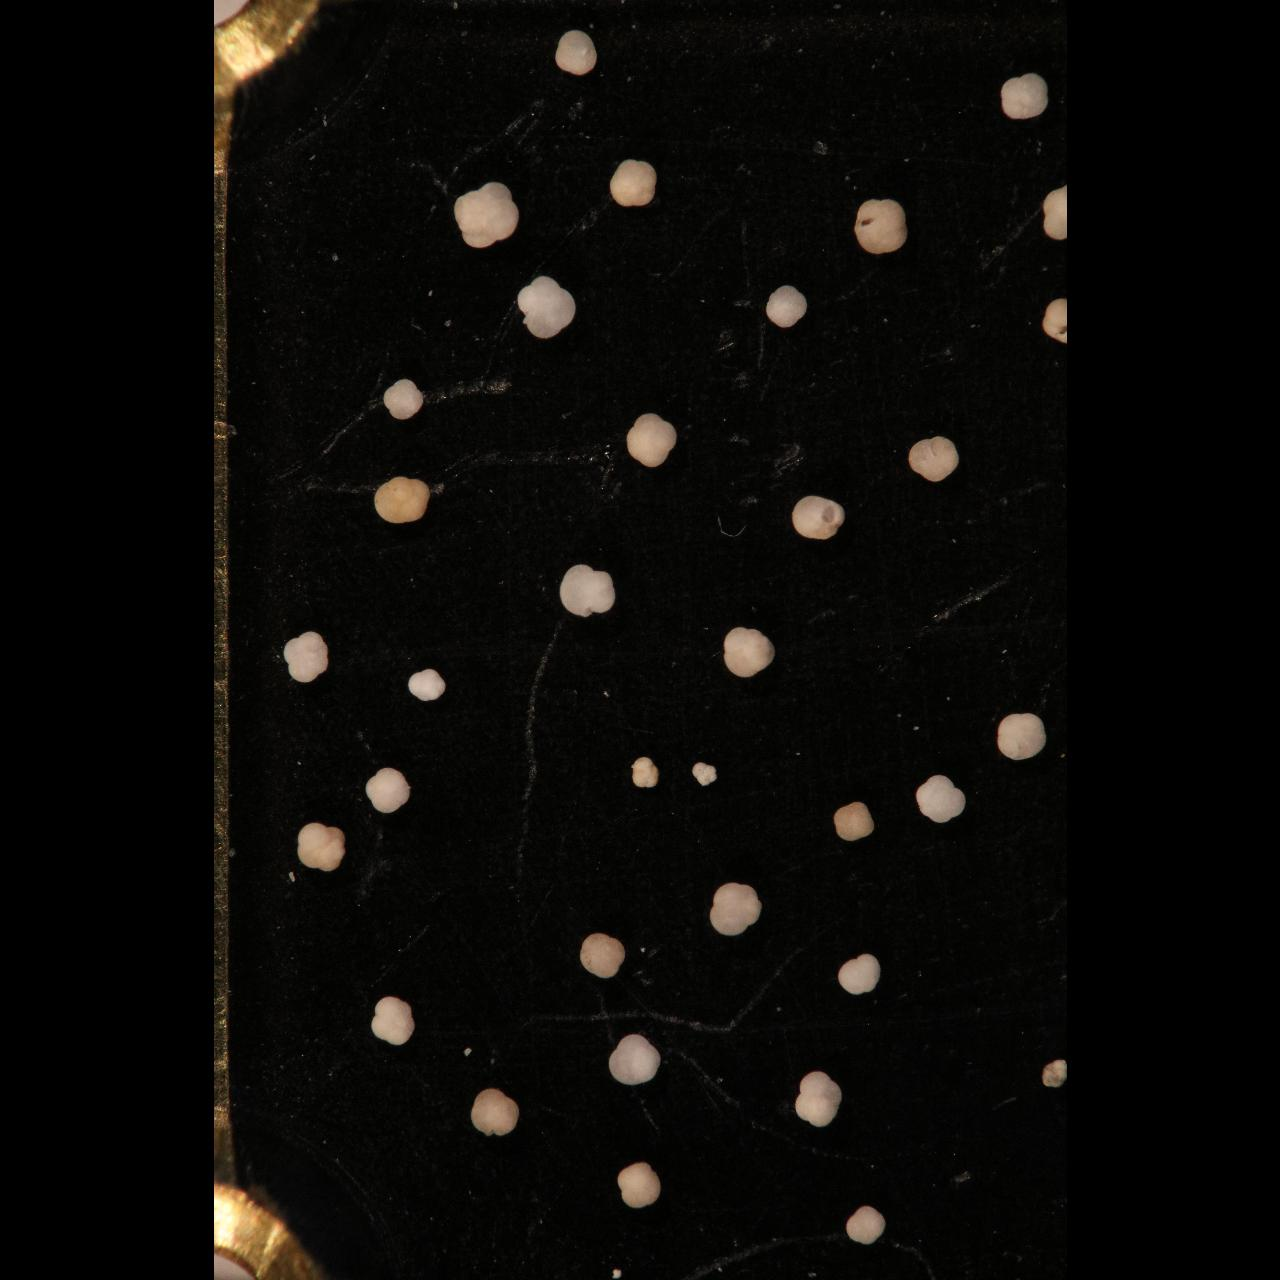planktic: (452, 181, 520, 250), (516, 274, 577, 340), (853, 196, 908, 257), (558, 563, 617, 618), (708, 881, 763, 939), (624, 411, 678, 469), (792, 1070, 844, 1130), (607, 1032, 662, 1087), (722, 625, 778, 679), (913, 772, 967, 825), (373, 475, 429, 525), (907, 434, 961, 484), (608, 157, 660, 209), (469, 1085, 519, 1138), (790, 493, 844, 543), (282, 629, 331, 685), (999, 72, 1051, 121), (295, 821, 345, 873), (579, 930, 627, 981), (995, 714, 1047, 761), (617, 1160, 663, 1211), (370, 995, 416, 1047), (365, 765, 411, 815), (837, 952, 883, 996), (553, 28, 597, 75), (765, 284, 809, 331), (832, 801, 876, 844), (844, 1205, 888, 1246), (382, 377, 423, 421), (1041, 183, 1065, 244), (406, 667, 445, 704), (1042, 295, 1067, 347), (629, 754, 660, 790), (690, 760, 717, 789), (1041, 1058, 1065, 1088)
